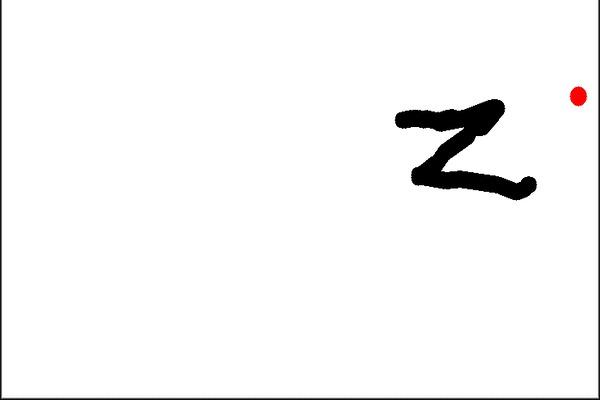Z: (391, 96, 543, 205)
